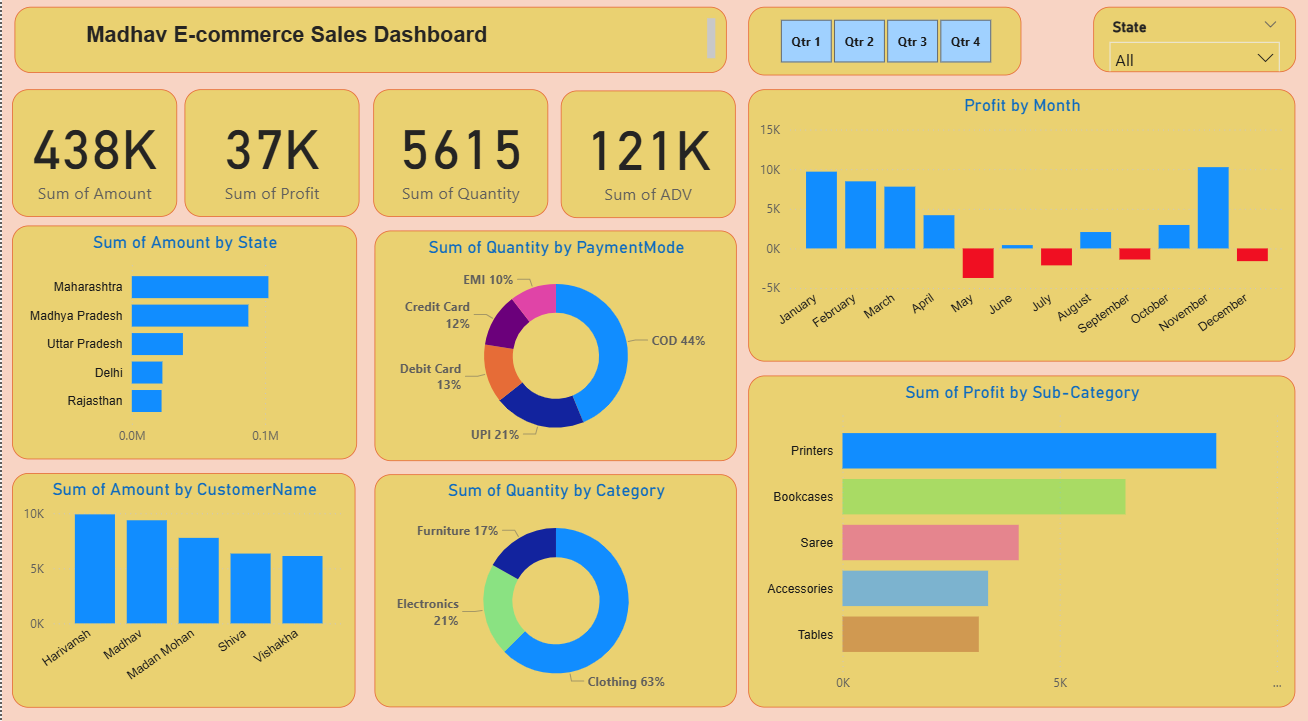

What the dashboard file says about the page in this screenshot:
{"tool":"powerbi","page":{"name":"Page 1","canvas":[1280,720],"ordinal":0},"visuals":[{"type":"textbox","box":[12.3,13.7,644.9,64.5],"z":0},{"type":"columnChart","title":"Profit by Month","fields":{"Category":["Orders.Order Date.Variation.Date Hierarchy.Month"],"Y":["Details.Profit"]},"box":[730.2,94.2,534.9,266.3],"z":1000},{"type":"clusteredBarChart","fields":{"Category":["Details.Sub-Category"],"Y":["Details.Profit"]},"box":[730.2,374.4,534.9,324.4],"z":2000},{"type":"donutChart","fields":{"Category":["Details.Category"],"Y":["Details.Quantity"]},"box":[364,470.9,354.7,227.9],"z":3000},{"type":"donutChart","fields":{"Y":["Details.Quantity"],"Category":["Details.PaymentMode"]},"box":[364,232.6,354.7,225.6],"z":4000},{"type":"card","fields":{"Values":["Details.Amount"]},"box":[0,94.2,170.9,124.4],"z":5000},{"type":"card","fields":{"Values":["Details.Profit"]},"box":[179.1,94.2,170.9,124.4],"z":6000},{"type":"card","fields":{"Values":["Details.Quantity"]},"box":[362.8,94.2,170.9,124.4],"z":7000},{"type":"card","fields":{"Values":["Details.ADV"]},"box":[546.5,95.3,170.9,124.4],"z":8000},{"type":"clusteredBarChart","fields":{"Category":["Orders.State"],"Y":["Details.Amount"]},"box":[9.6,227.8,337.6,229.2],"z":9000},{"type":"columnChart","fields":{"Y":["Details.Amount"],"Category":["Orders.CustomerName"]},"box":[0,469.8,346.5,230.2],"z":10000},{"type":"slicer","fields":{"Values":["Orders.Order Date.Variation.Date Hierarchy.Quarter"]},"box":[730.2,14,267.4,67.4],"z":11000},{"type":"slicer","fields":{"Values":["Orders.State"]},"box":[1067.4,13.5,198.4,64.2],"z":12000}]}

Visuals, with their boxes in screenshot pixels (x1, y1, x2, y2), scaled from the page's 1280x720 canvas onto the 1308x721 screenshot:
textbox: bbox(13, 14, 672, 78)
"Profit by Month" columnChart: bbox(746, 94, 1293, 361)
clusteredBarChart - Details.Sub-Category x Details.Profit: bbox(746, 375, 1293, 700)
donutChart - Details.Category x Details.Quantity: bbox(372, 472, 734, 700)
donutChart - Details.Quantity x Details.PaymentMode: bbox(372, 233, 734, 459)
card - Details.Amount: bbox(0, 94, 175, 219)
card - Details.Profit: bbox(183, 94, 358, 219)
card - Details.Quantity: bbox(371, 94, 545, 219)
card - Details.ADV: bbox(558, 95, 733, 220)
clusteredBarChart - Orders.State x Details.Amount: bbox(10, 228, 355, 458)
columnChart - Details.Amount x Orders.CustomerName: bbox(0, 470, 354, 701)
slicer - Orders.Order Date.Variation.Date Hierarchy.Quarter: bbox(746, 14, 1019, 82)
slicer - Orders.State: bbox(1091, 14, 1293, 78)
